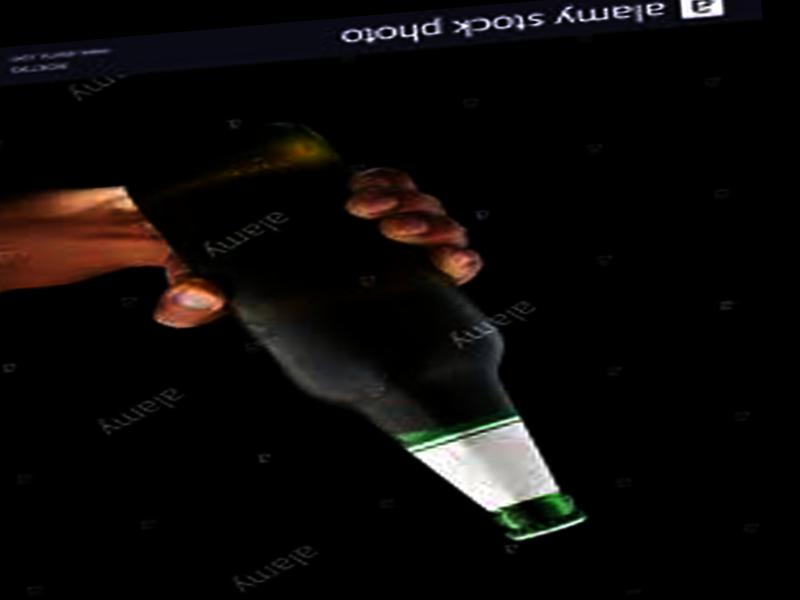Beer: (122, 93, 593, 574)
